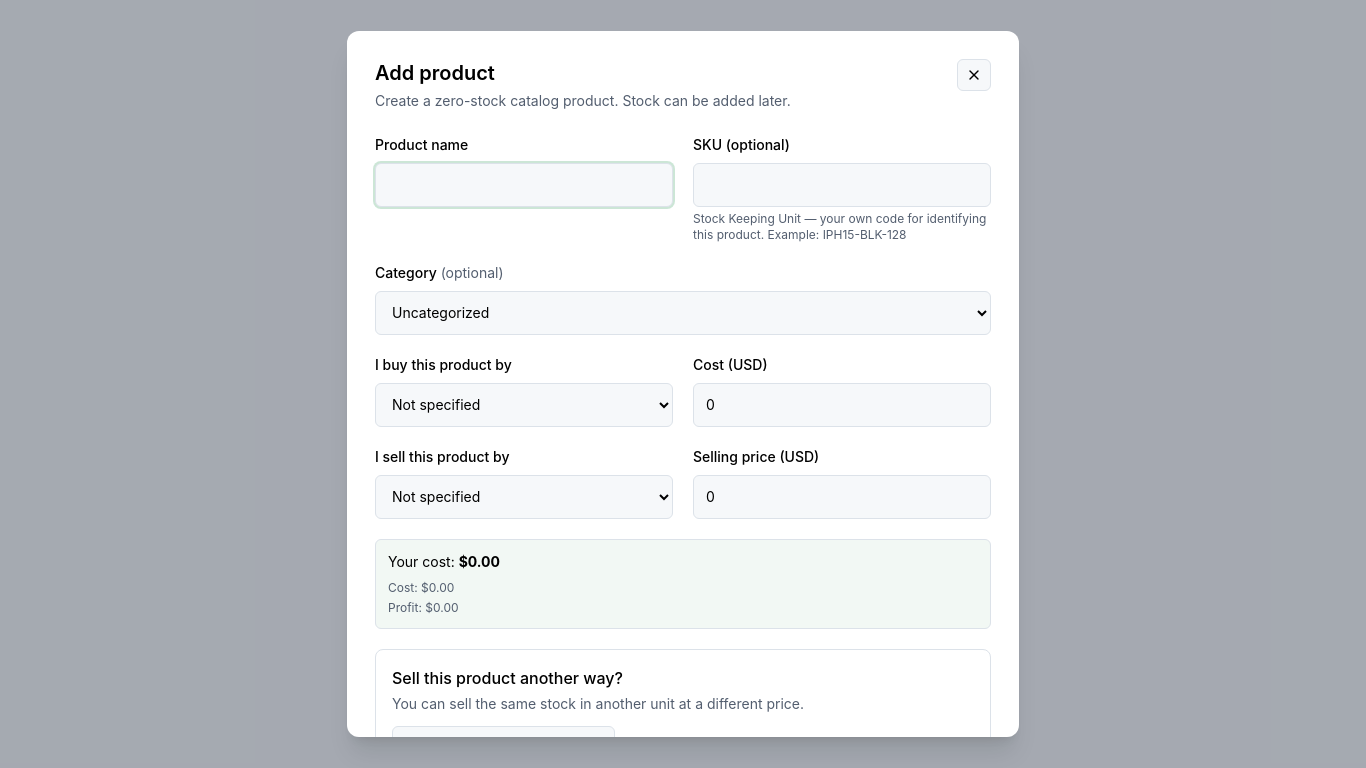
ProductFormDialog › validates required product details and numeric precision
Replace the text in the field labelled "Cost (USD)" with "1.12345" at (842, 405), box [693,383,991,427]
(page scrolled)
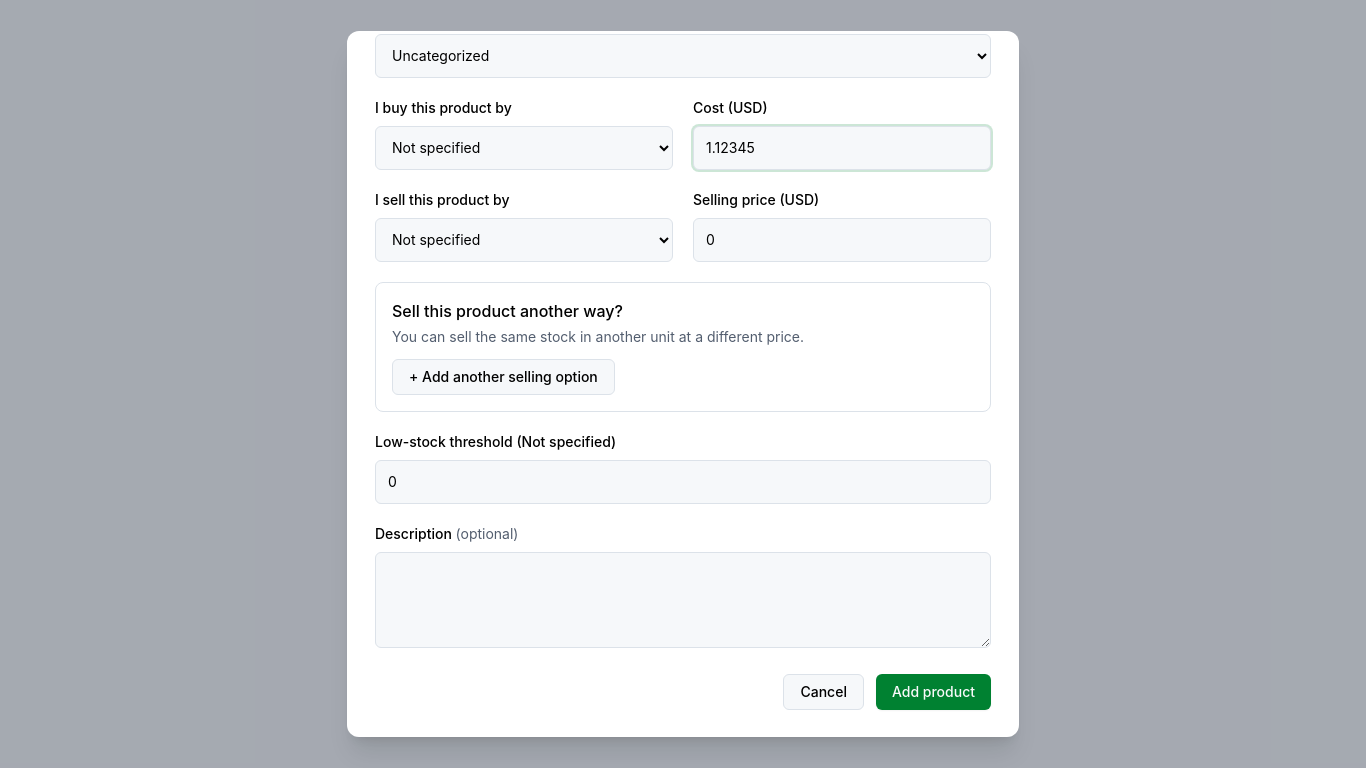
Click the button "Add product" at (934, 692), box [876,674,991,710]
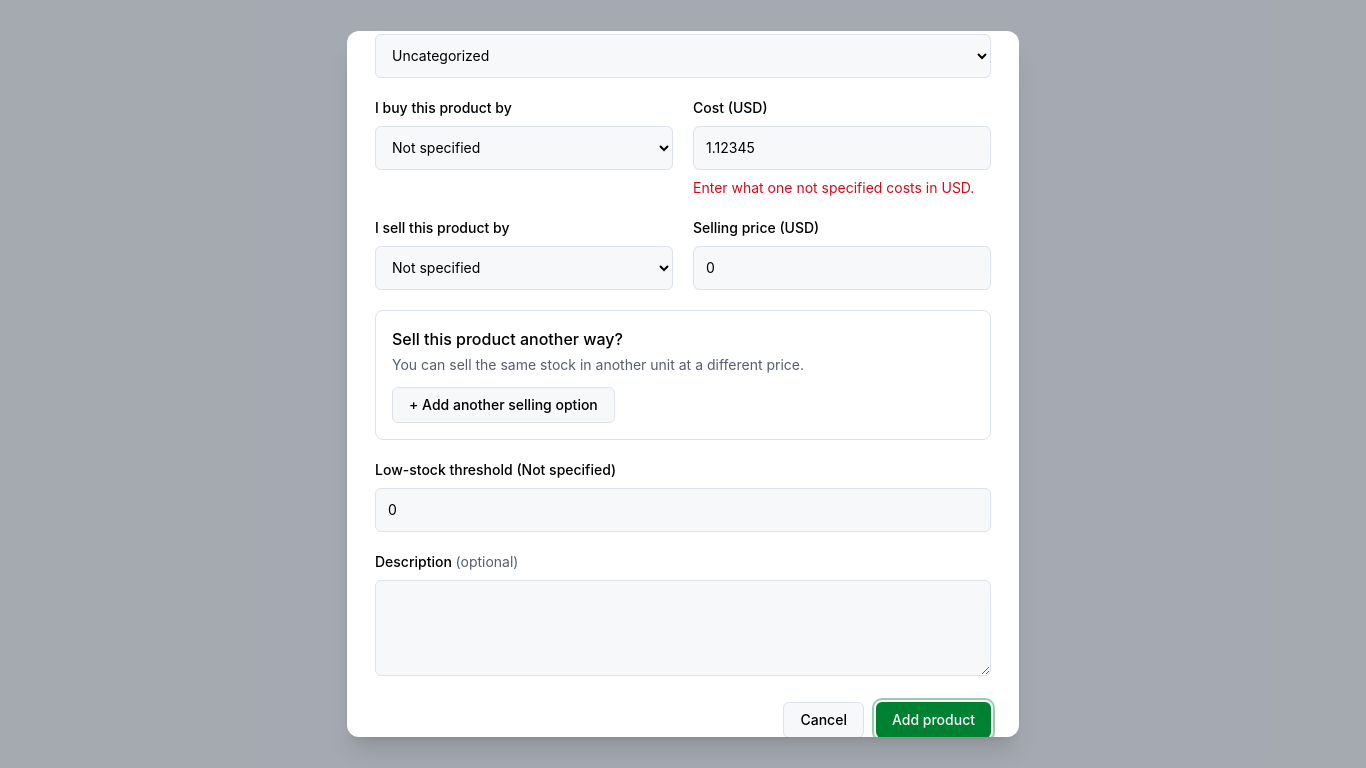
Result: the text "Enter what one not specified costs in USD." is shown at [693,178,991,198]
